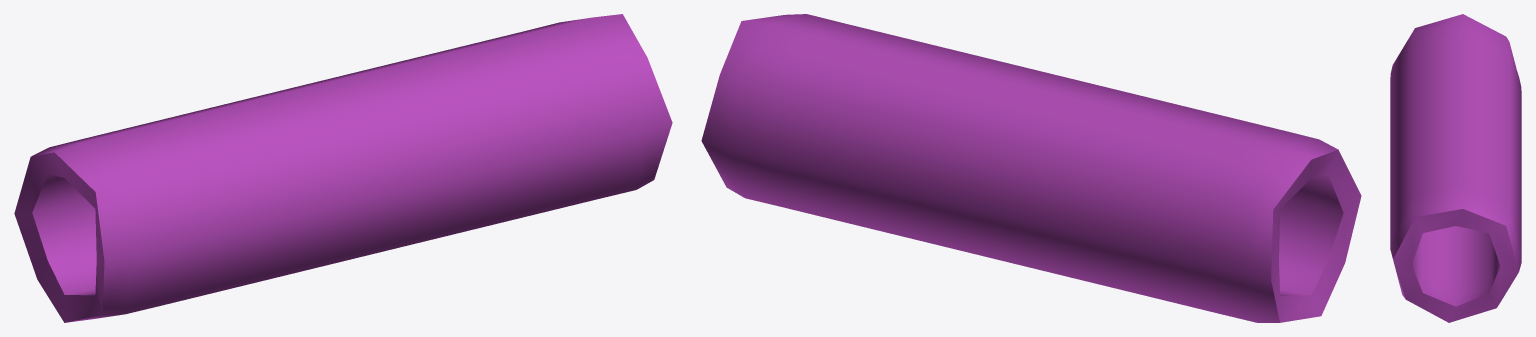
The model's file is tunnelstraight3.fbx.
3 views of the same model, side by side, from view 1: azimuth 30°, elevation 25°; view 2: azimuth 150°, elevation 25°; view 3: azimuth 270°, elevation 25° (orthographic). The views are drawn at different scales.
Parts seen in each view (by area): view 1: tunnel; view 2: tunnel; view 3: tunnel.
Part boxes in pixels (left/top/right/bottom): tunnel: left=14, top=14, right=672, bottom=322; tunnel: left=701, top=14, right=1361, bottom=322; tunnel: left=1390, top=14, right=1521, bottom=322.
Bounding box in the file's own units: 0.2403 × 0.0684 × 0.0684.
